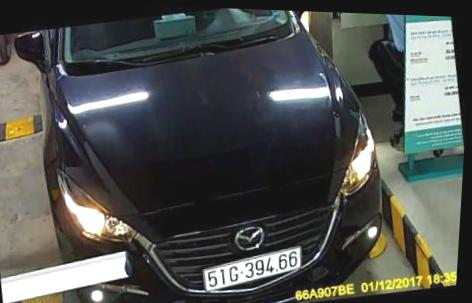License_Plate: (188, 231, 307, 293)
